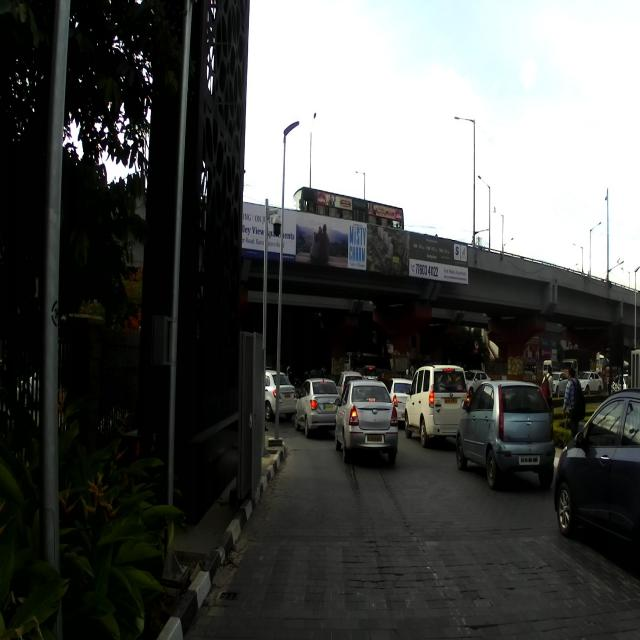car: (456, 377, 556, 491), (334, 379, 400, 463), (404, 363, 468, 446)
